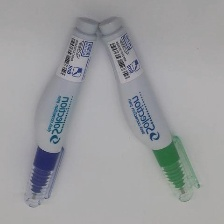correction_fluid: (95, 14, 202, 206), (18, 14, 99, 210)
